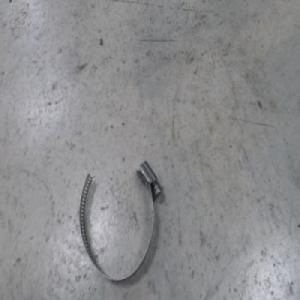AdjustableClamp: (77, 158, 160, 282)
